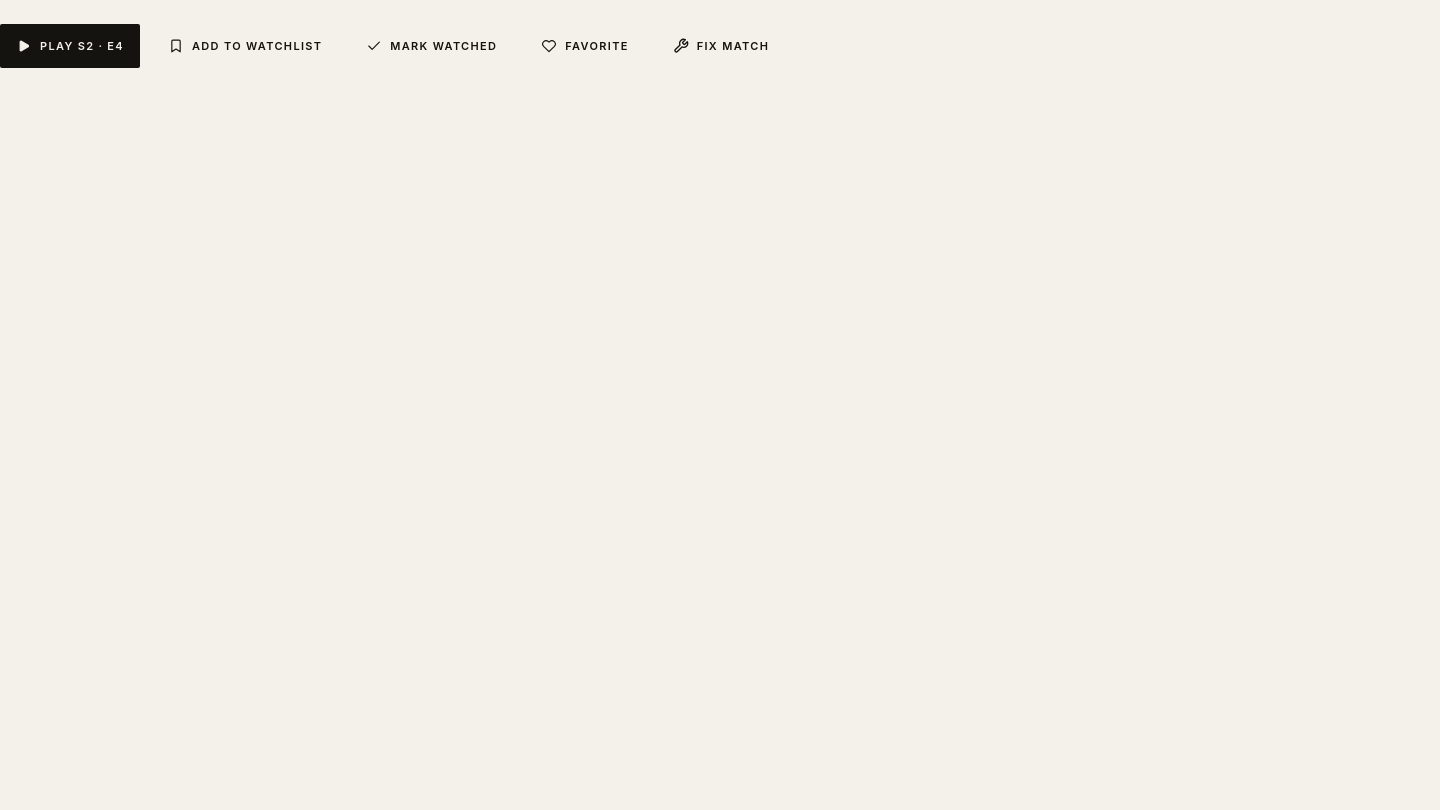
Test: TitleActions › marks watched, favorites, queues the next episode, lets an admin fix the match, and forgets the cached detail
The width and height of the screenshot is (1440, 810).
Click the button "Mark watched" at (432, 46), box [350, 24, 513, 68]
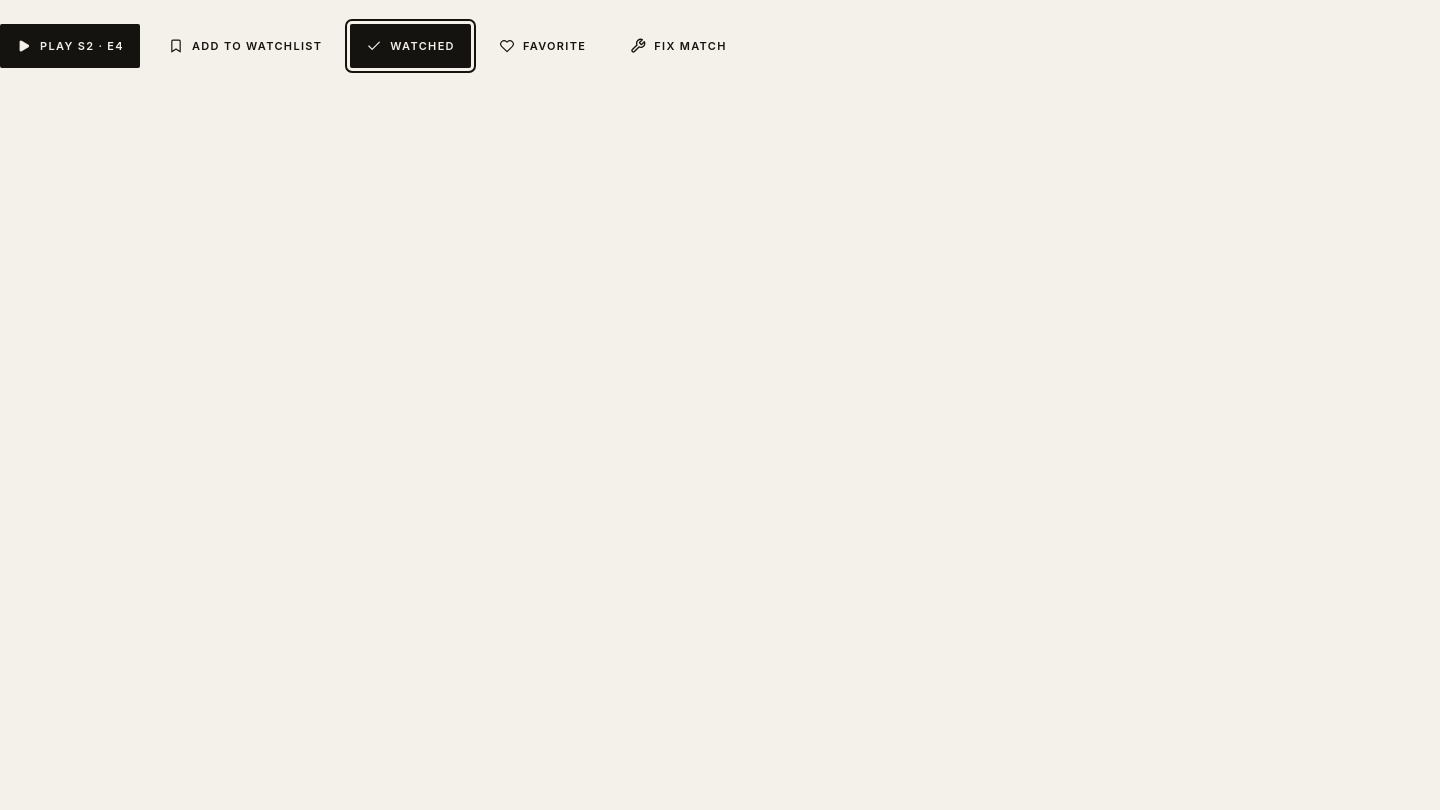
Expected: the button "Watched" is shown, [350, 24, 471, 68]
Click the button "Favorite" at (543, 46), box [483, 24, 602, 68]
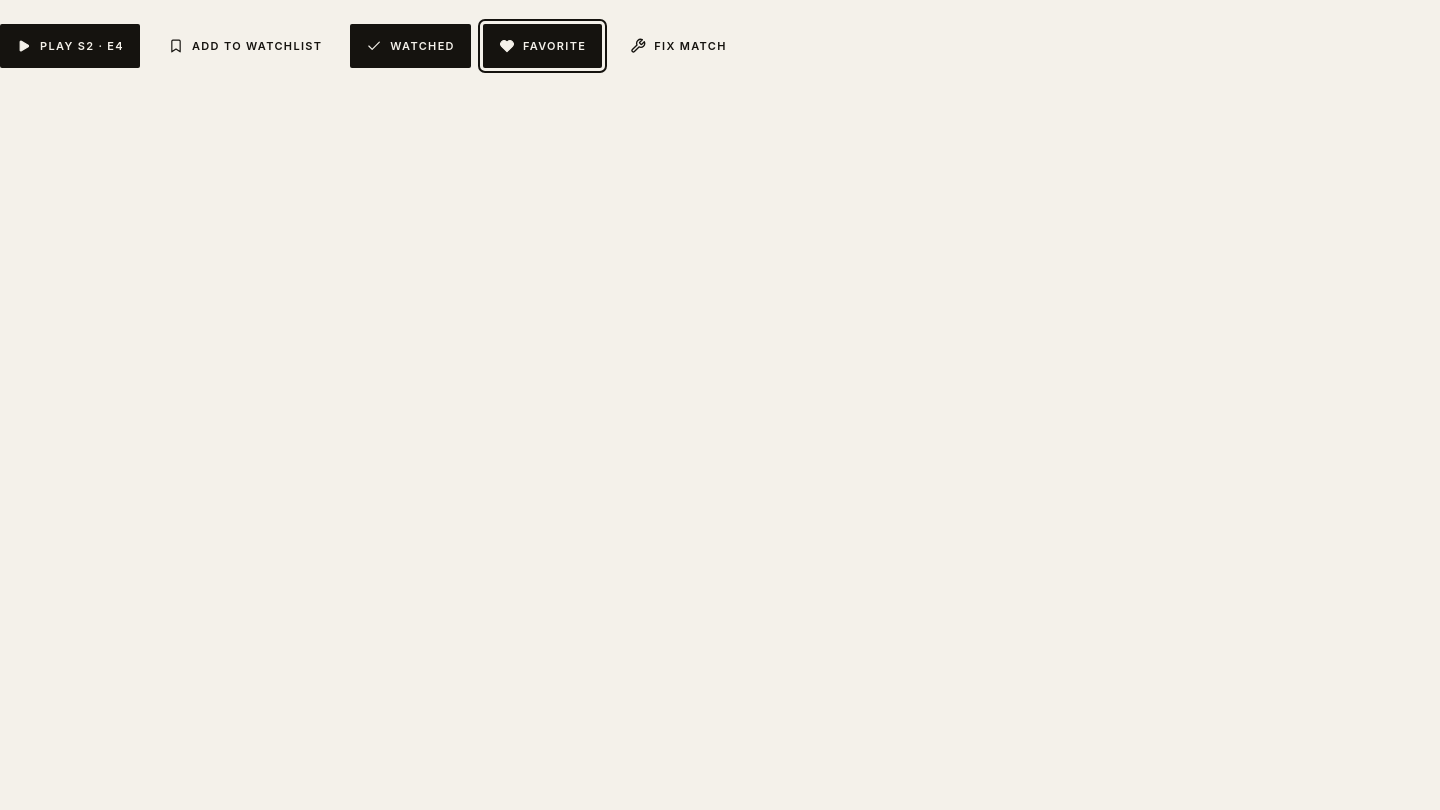
Expected: the button "Favorite" is pressed, [483, 24, 602, 68]
Click the button "Add to watchlist" at (245, 46), box [152, 24, 338, 68]
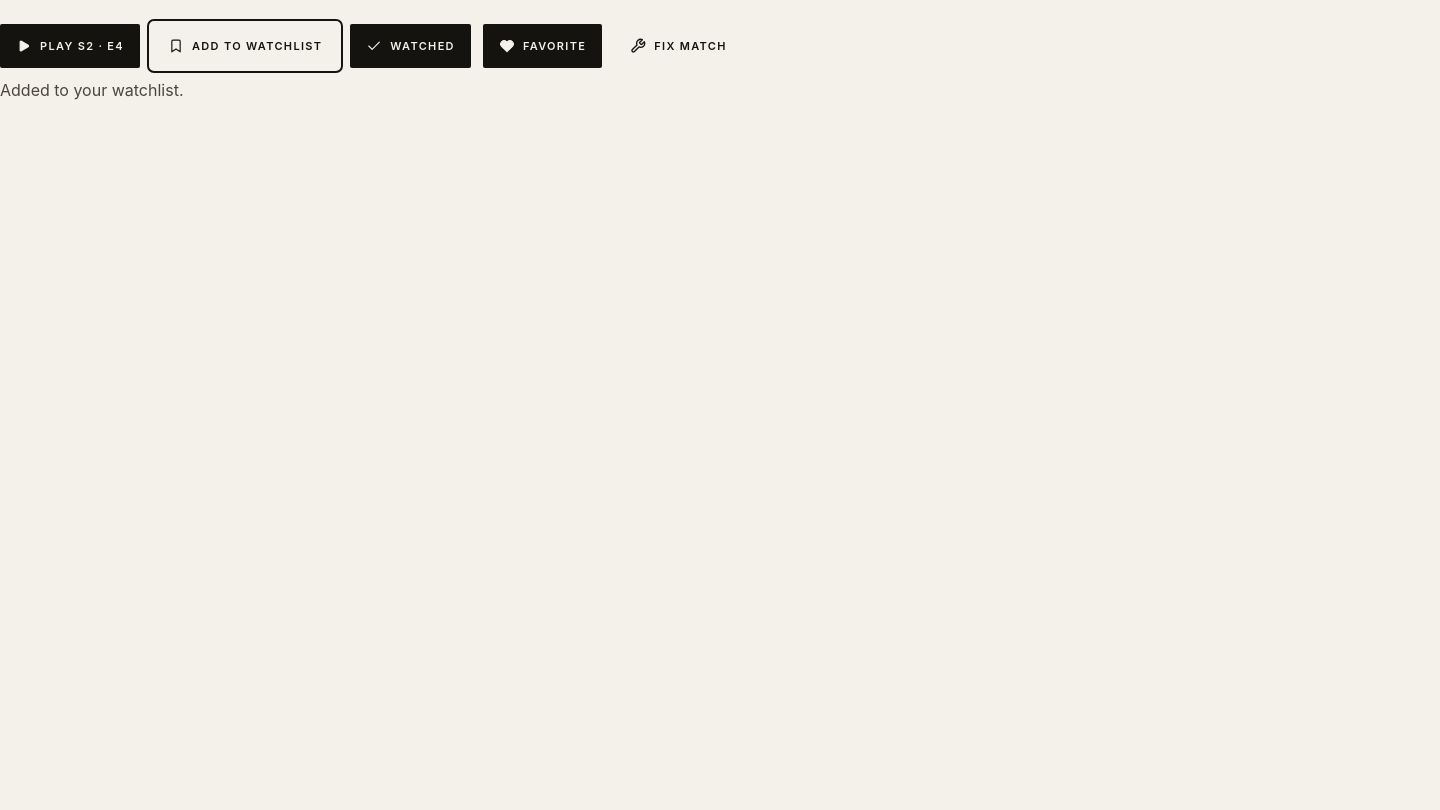
Click the button "Fix match" at (679, 46), box [614, 24, 743, 68]
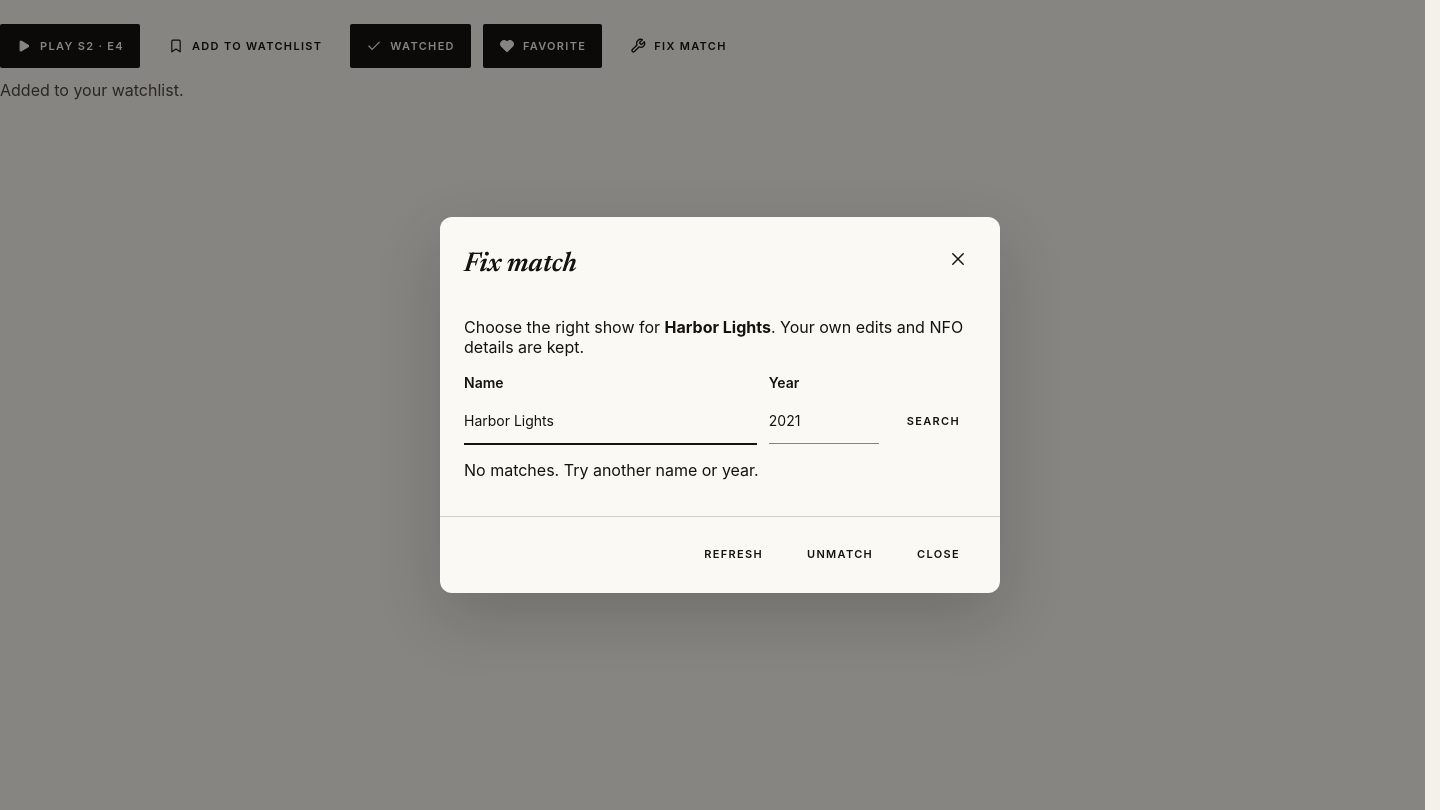
Expected: the dialog "Fix match" is shown, [440, 217, 1000, 593]
